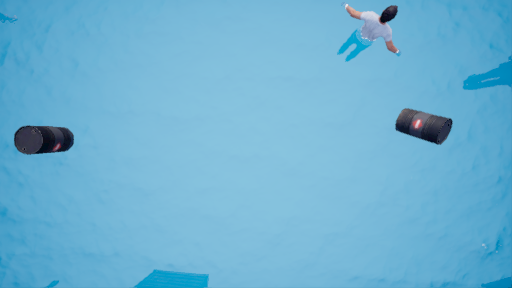person: (341, 4, 413, 71)
